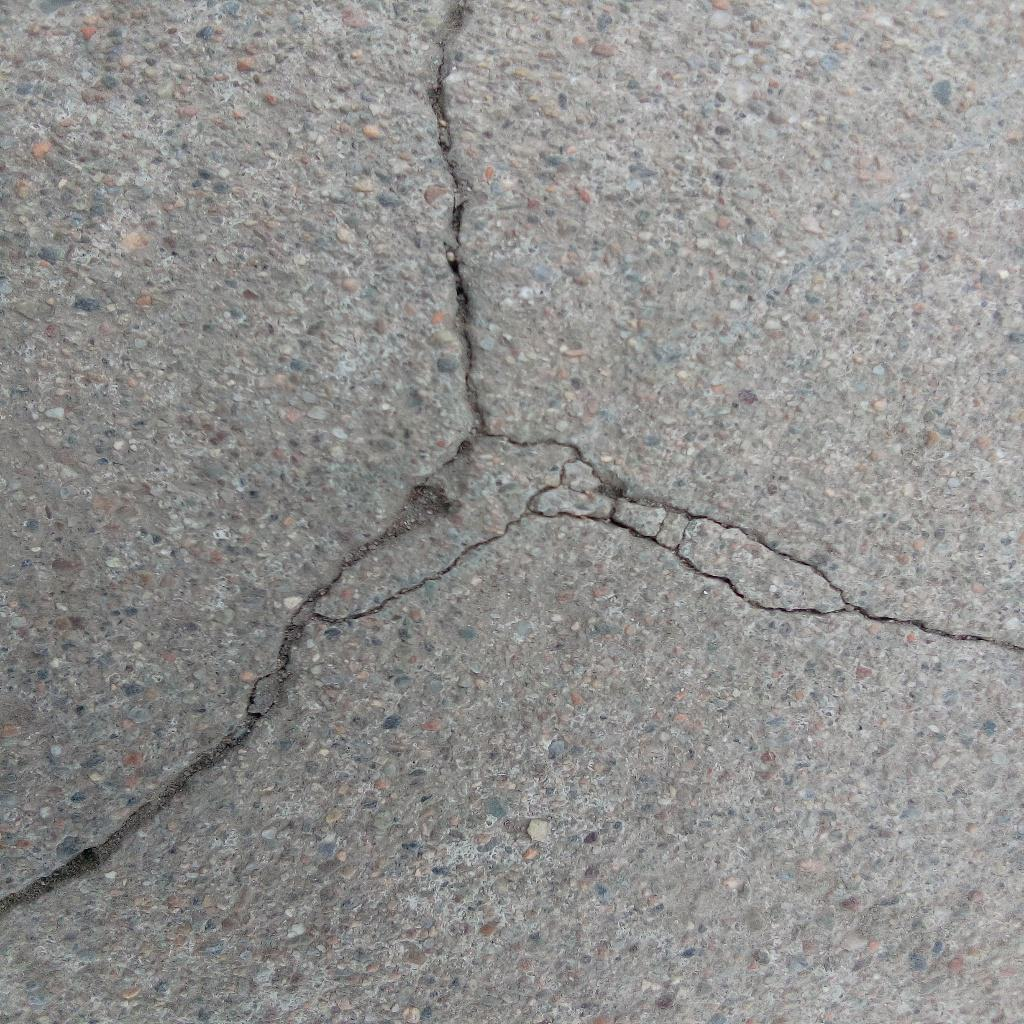Crack: (1, 435, 485, 916), (424, 1, 485, 434), (312, 511, 530, 623), (846, 607, 1024, 652), (485, 435, 580, 452)
Spalling: (526, 453, 846, 616)
